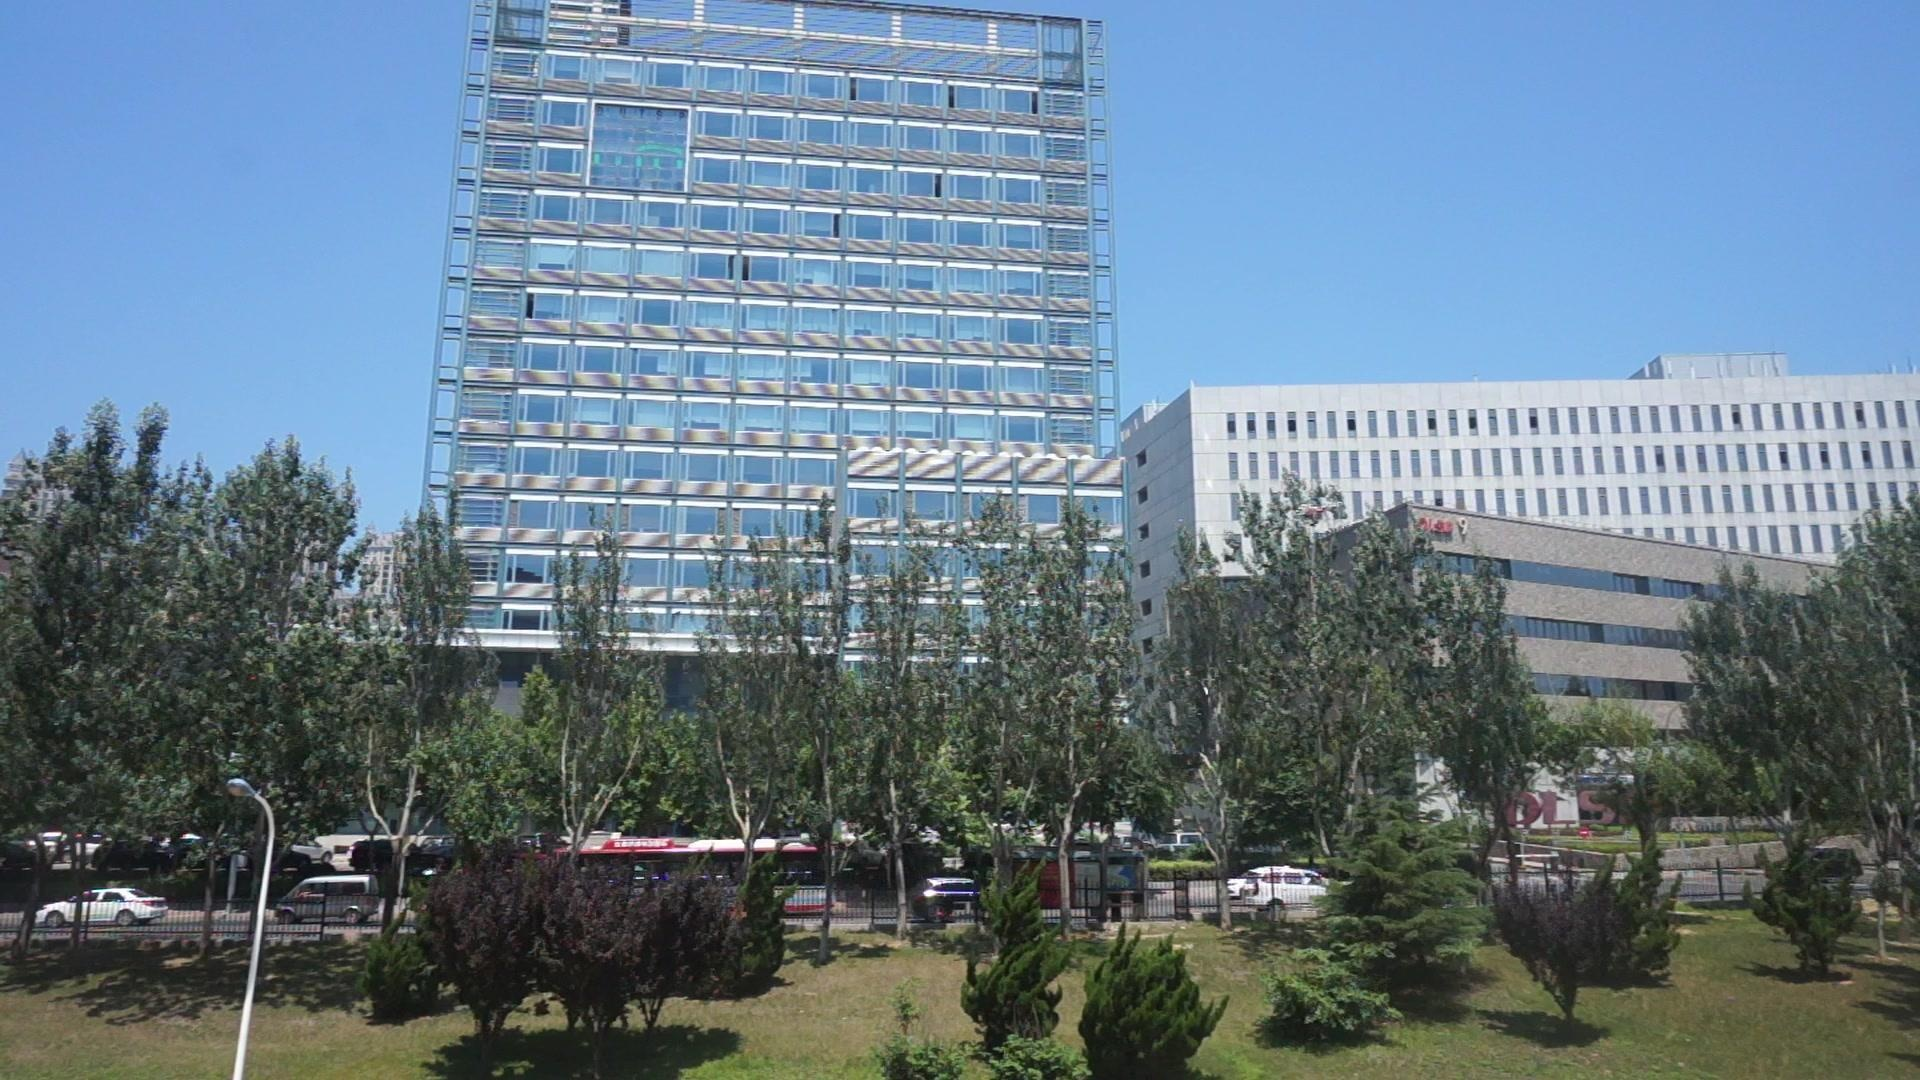UAV: (1300, 502, 1342, 520)
